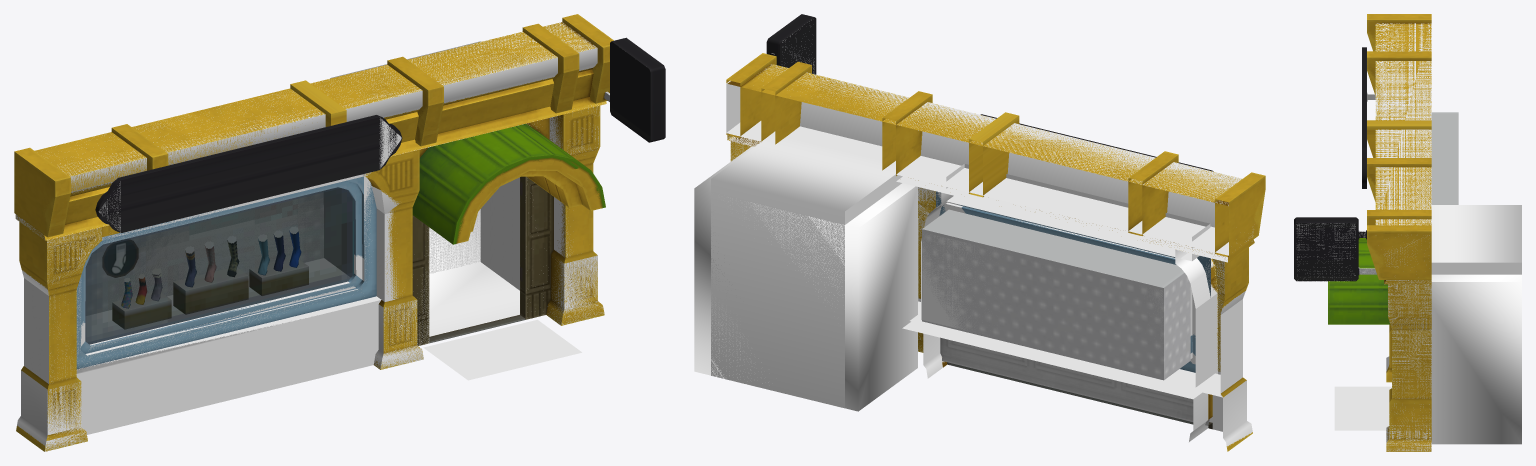
The model's file is objects_un_dressupsocks01.gltf.
3 renders of one model, left to right at view 1: azimuth 30°, elevation 25°; view 2: azimuth 150°, elevation 25°; view 3: azimuth 270°, elevation 25°, orthographic. The views are drawn at different scales.
Parts seen in each view (by area): view 1: um_objects_un_dressupsocks01_model_lod0Shape:objects_un_dres (×5), um_objects_un_dressupsocks01_model_lod1Shape:objects_un_dres (×3), nomerge_signboard01_shape:objects_un_dressupsocks01_obj02, nomerge_objects_un_dressupsocks01_inside01_shape:objects_un_, um_objects_un_dressupsocks01_model_lod2Shape:objects_un_dres, um_objects_un_dressupsocks01_model_lod0Shape:objects_un_shop, nomerge_box01_shape:objects_un_dressupsocks01_obj03; view 2: um_objects_un_dressupsocks01_model_lod0Shape:objects_un_dres (×3), nomerge_objects_un_dressupsocks01_inside01_shape:objects_un_, um_objects_un_dressupsocks01_model_lod2Shape:objects_un_dres, nomerge_signboard01_shape:objects_un_dressupsocks01_obj02; view 3: um_objects_un_dressupsocks01_model_lod0Shape:objects_un_dres (×3), nomerge_objects_un_dressupsocks01_inside01_shape:objects_un_, nomerge_signboard01_shape:objects_un_dressupsocks01_obj02, um_objects_un_dressupsocks01_model_lod0Shape:objects_un_shop, um_objects_un_dressupsocks01_model_lod1Shape:objects_un_dres, um_objects_un_dressupsocks01_model_lod2Shape:objects_un_dres.
Part boxes in pixels (box(x1,y1,x2,y2)): um_objects_un_dressupsocks01_model_lod0Shape:objects_un_dres (×5): box(14, 14, 613, 451); um_objects_un_dressupsocks01_model_lod1Shape:objects_un_dres (×3): box(16, 118, 605, 449); nomerge_signboard01_shape:objects_un_dressupsocks01_obj02: box(95, 37, 665, 232); nomerge_objects_un_dressupsocks01_inside01_shape:objects_un_: box(429, 209, 519, 336); um_objects_un_dressupsocks01_model_lod2Shape:objects_un_dres: box(14, 18, 609, 361); um_objects_un_dressupsocks01_model_lod0Shape:objects_un_shop: box(423, 319, 581, 380); nomerge_box01_shape:objects_un_dressupsocks01_obj03: box(102, 239, 138, 277); um_objects_un_dressupsocks01_model_lod0Shape:objects_un_dres (×3): box(711, 20, 1265, 446); nomerge_objects_un_dressupsocks01_inside01_shape:objects_un_: box(694, 146, 917, 411); um_objects_un_dressupsocks01_model_lod2Shape:objects_un_dres: box(726, 80, 1265, 354); nomerge_signboard01_shape:objects_un_dressupsocks01_obj02: box(766, 14, 1213, 171); um_objects_un_dressupsocks01_model_lod0Shape:objects_un_dres (×3): box(1296, 14, 1521, 451); nomerge_objects_un_dressupsocks01_inside01_shape:objects_un_: box(1431, 274, 1521, 444); nomerge_signboard01_shape:objects_un_dressupsocks01_obj02: box(1294, 47, 1376, 281); um_objects_un_dressupsocks01_model_lod0Shape:objects_un_shop: box(1334, 386, 1391, 430); um_objects_un_dressupsocks01_model_lod1Shape:objects_un_dres: box(1387, 285, 1431, 451); um_objects_un_dressupsocks01_model_lod2Shape:objects_un_dres: box(1367, 20, 1431, 279).
Size of what is drawn, in the model's own units: 7.25 by 3.57 by 3.21.
9 materials, 6 textured.
